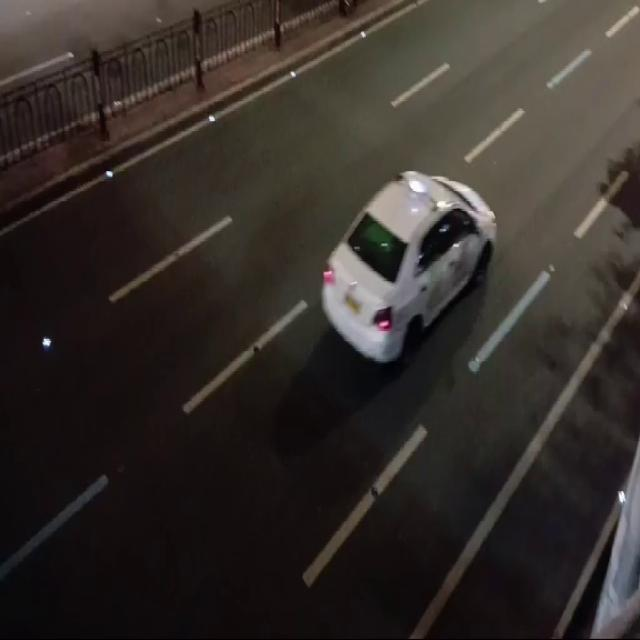car: (322, 156, 496, 358)
